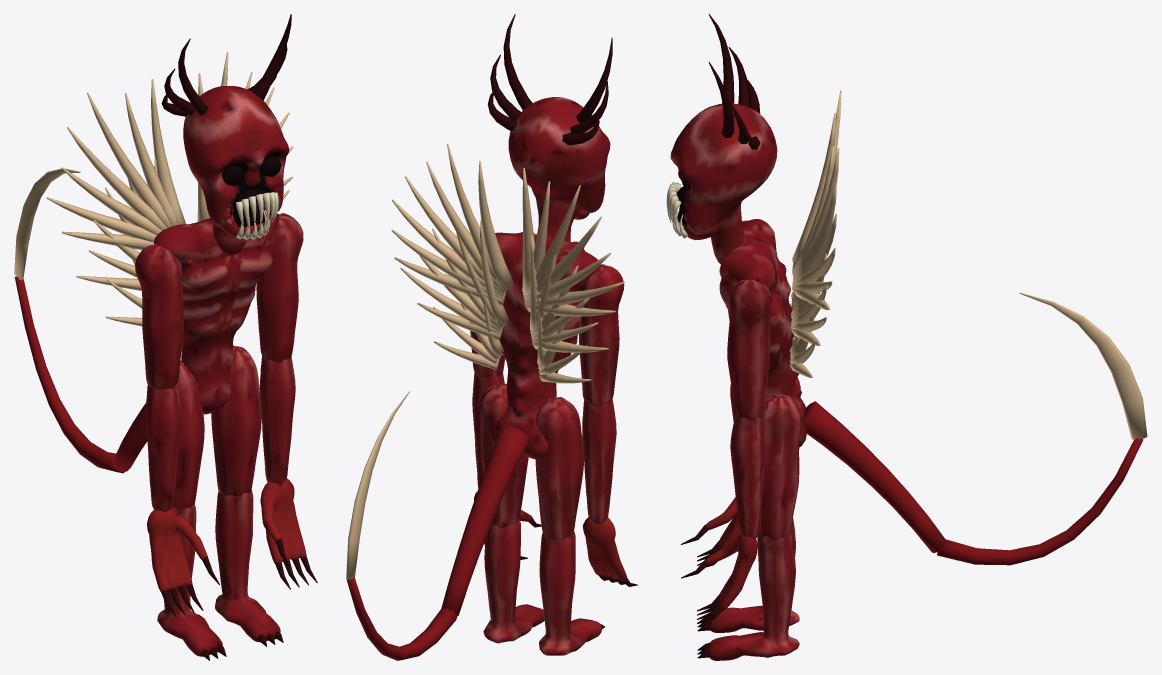
The model's file is felino_infernal.glb.
3 views of the same model, side by side, from view 1: azimuth 30°, elevation 25°; view 2: azimuth 150°, elevation 25°; view 3: azimuth 270°, elevation 25° (orthographic). The views are drawn at different scales.
Visible parts, largest first — view 1: P_chest, P_neck, P_shR, P_hipL, P_kneeL, P_shL, P_tail2, P_handR, P_elL, P_elR, P_handL, P_hipR (+3 smaller); view 2: P_chest, P_neck, P_hipR, P_tail, P_kneeR, P_kneeL, P_shR, P_tail2, P_elR, P_hipL, P_handR, P_elL (+1 smaller); view 3: P_neck, P_chest, P_tail2, P_shL, P_kneeL, P_hipL, P_tail, P_elL, P_handL, P_kneeR, P_handR.
Part boxes in pixels (x1,y1,x2,y2): P_chest: (46, 52, 293, 414); P_neck: (161, 14, 291, 255); P_shR: (135, 244, 184, 389); P_hipL: (211, 345, 261, 495); P_kneeL: (215, 490, 283, 646); P_shL: (256, 213, 303, 362); P_tail2: (14, 168, 124, 473); P_handR: (147, 506, 219, 617); P_elL: (259, 356, 295, 483); P_elR: (145, 384, 181, 512); P_handL: (260, 478, 317, 589); P_hipR: (173, 360, 204, 509); P_chest: (391, 144, 624, 459); P_neck: (487, 14, 612, 241); P_hipR: (535, 397, 583, 541); P_tail: (441, 426, 528, 615); P_kneeR: (539, 531, 604, 655); P_kneeL: (483, 519, 544, 643); P_shR: (579, 264, 624, 406); P_tail2: (346, 391, 457, 660); P_elR: (582, 399, 616, 524); P_hipL: (479, 383, 528, 528); P_handR: (582, 517, 637, 586); P_elL: (472, 372, 504, 488); P_neck: (666, 14, 777, 264); P_chest: (719, 90, 841, 447); P_tail2: (937, 293, 1147, 565); P_shL: (727, 279, 771, 420); P_kneeL: (697, 532, 799, 660); P_hipL: (760, 393, 800, 540); P_tail: (804, 401, 945, 552); P_elL: (730, 412, 765, 539); P_handL: (681, 534, 757, 623); P_kneeR: (697, 518, 799, 632); P_handR: (681, 497, 740, 567).
Bounding box in the file's own units: 1.03 × 2.51 × 1.8.
